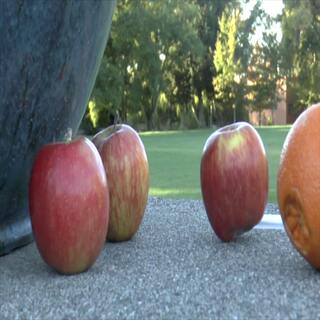apple: (26, 140, 104, 270), (194, 123, 274, 243), (88, 124, 148, 244)
orange: (272, 104, 320, 271)
